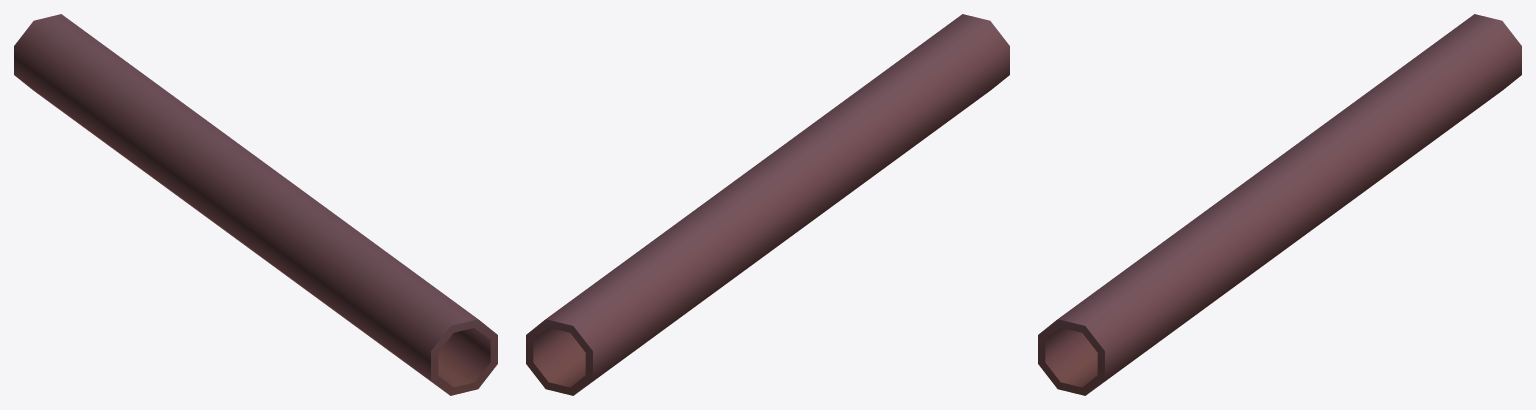
File: Pipe_C_1_3.fbx
3 views of the same model, side by side, from view 1: azimuth 30°, elevation 25°; view 2: azimuth 150°, elevation 25°; view 3: azimuth 330°, elevation 25° (orthographic).
Parts seen in each view (by area): view 1: Pipe_C_1_3; view 2: Pipe_C_1_3; view 3: Pipe_C_1_3.
Part boxes in pixels (x1,y1,x2,y2): Pipe_C_1_3: (14, 14, 497, 395); Pipe_C_1_3: (526, 14, 1009, 395); Pipe_C_1_3: (1038, 14, 1521, 395).
Bounding box in the file's own units: 51.05 × 51.05 × 551.
